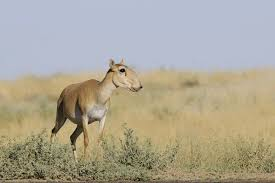saiga: (50, 57, 145, 155)
